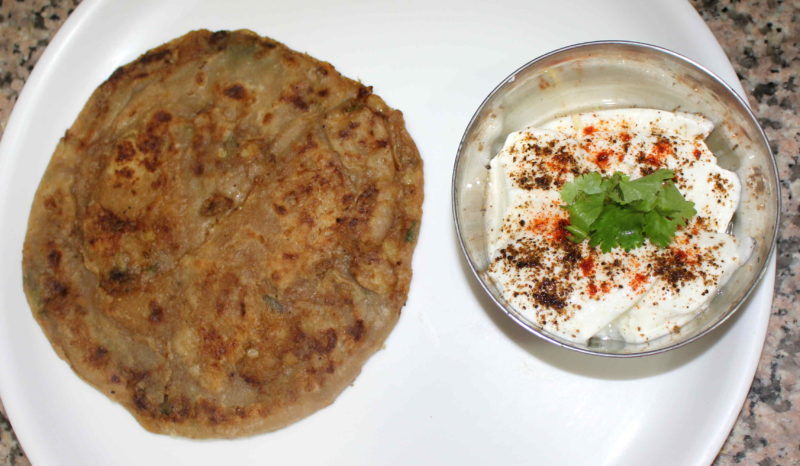aloo_paratha: (21, 26, 424, 444)
